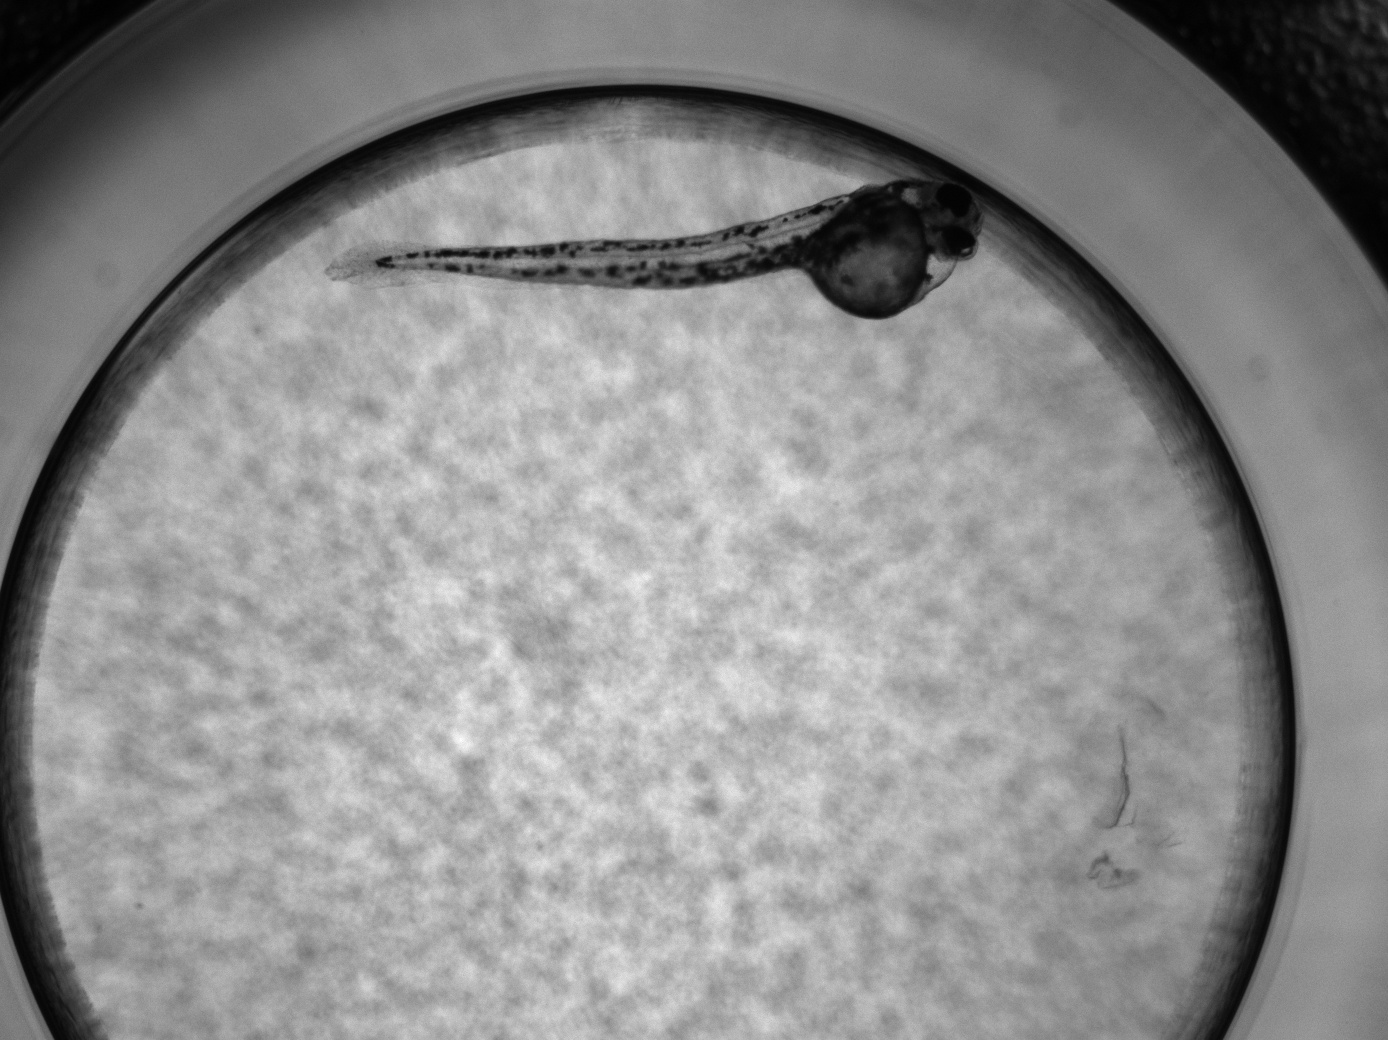embryo: (373, 177, 984, 322)
eye: (936, 184, 974, 218), (940, 225, 978, 258)
yolksac: (804, 192, 927, 320)
